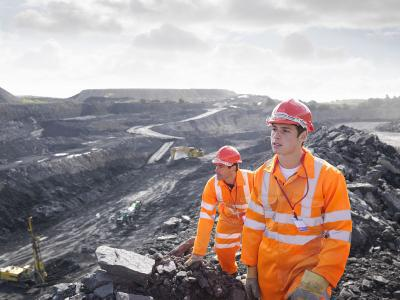helmet: (261, 92, 320, 162), (211, 143, 244, 180)
